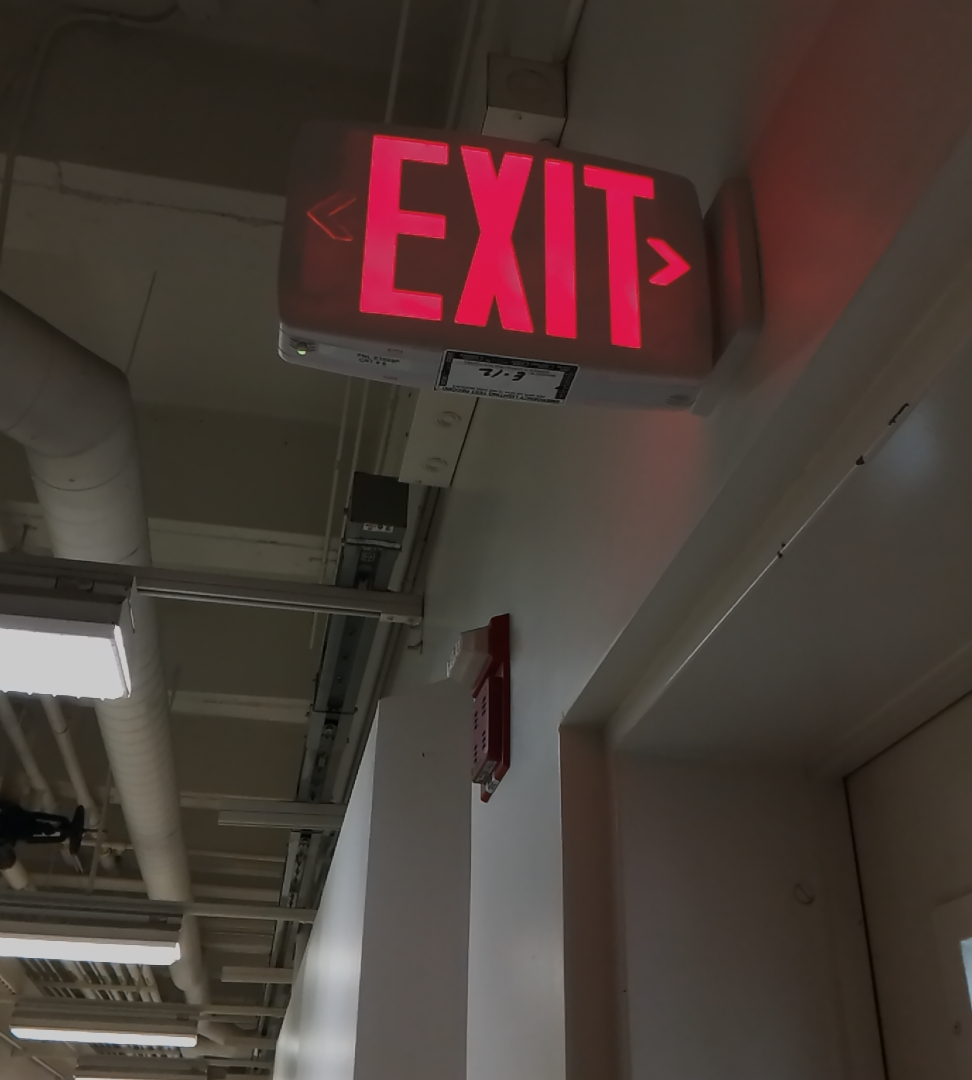emergency_exit: (273, 115, 723, 404)
